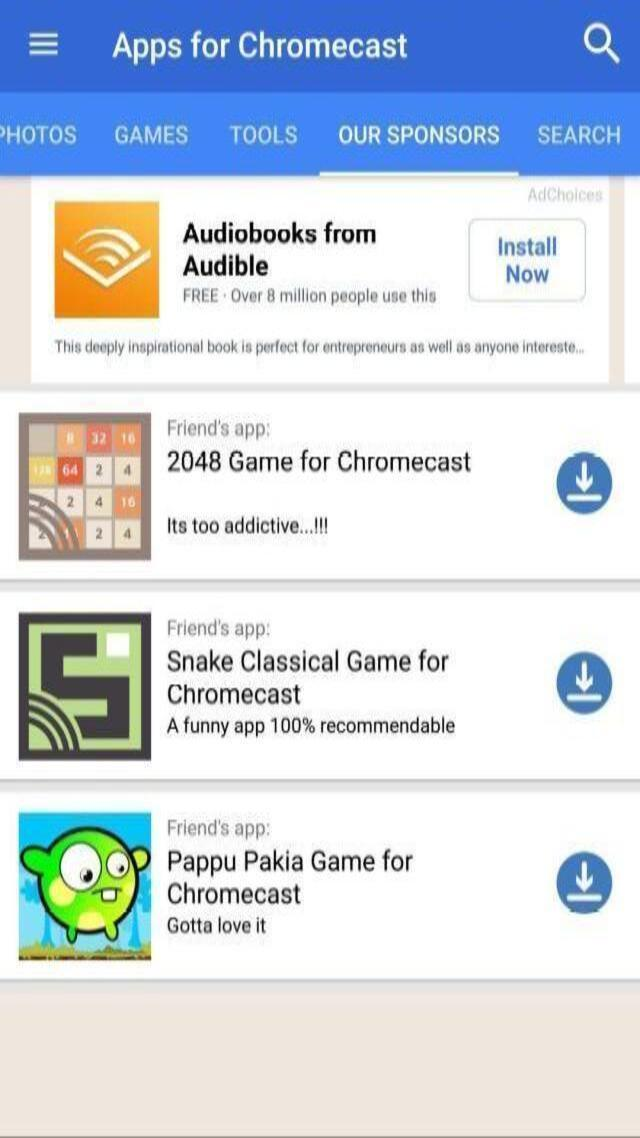Icon: (19, 812, 155, 962), (19, 612, 150, 758), (22, 414, 148, 555), (55, 200, 156, 318), (556, 450, 614, 520), (557, 648, 614, 718), (557, 851, 614, 920), (576, 15, 627, 68), (575, 16, 622, 66), (21, 23, 66, 62), (583, 20, 621, 66)
Text: (108, 26, 413, 72), (52, 337, 586, 360), (162, 442, 477, 475), (161, 712, 466, 740), (161, 647, 457, 675), (160, 848, 418, 878), (178, 282, 442, 310), (178, 217, 383, 246), (160, 512, 340, 542), (159, 677, 309, 710), (162, 880, 310, 910), (164, 814, 279, 844), (161, 615, 275, 643), (178, 249, 274, 280), (164, 414, 274, 440), (162, 912, 276, 937)
TextButton: (468, 220, 586, 304), (330, 118, 506, 153), (530, 121, 628, 154), (110, 119, 196, 153), (223, 119, 306, 154)
